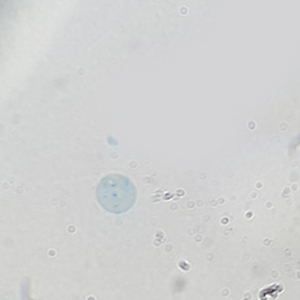punctate reticulocyte: (95, 172, 138, 216)
